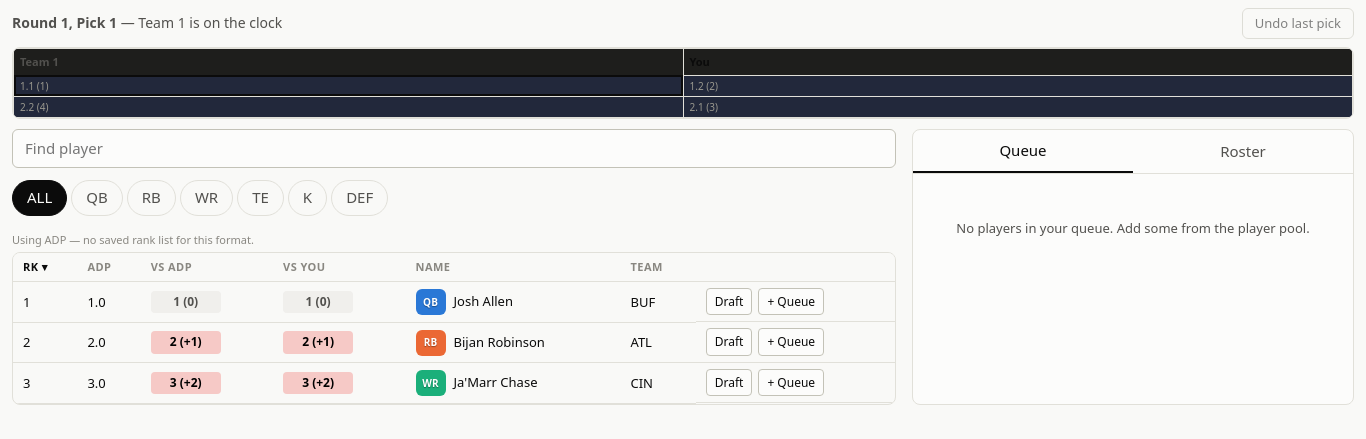
it: DraftRoom › undo removes the last pick
Expected: the text "Josh Allen" is shown, [454, 292, 513, 310]
Click the button "Draft" in the row of "1.0": click(729, 302) [706, 288, 752, 315]
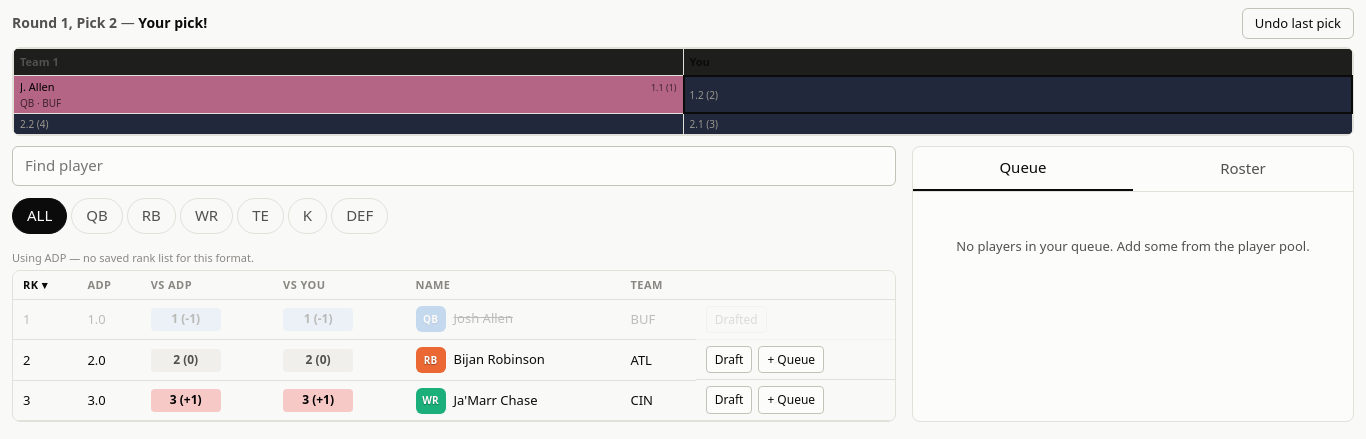
Expected: the text "Your pick!" is shown, [138, 13, 207, 32]
Click the button "Undo last pick": click(1298, 23) [1242, 8, 1354, 39]
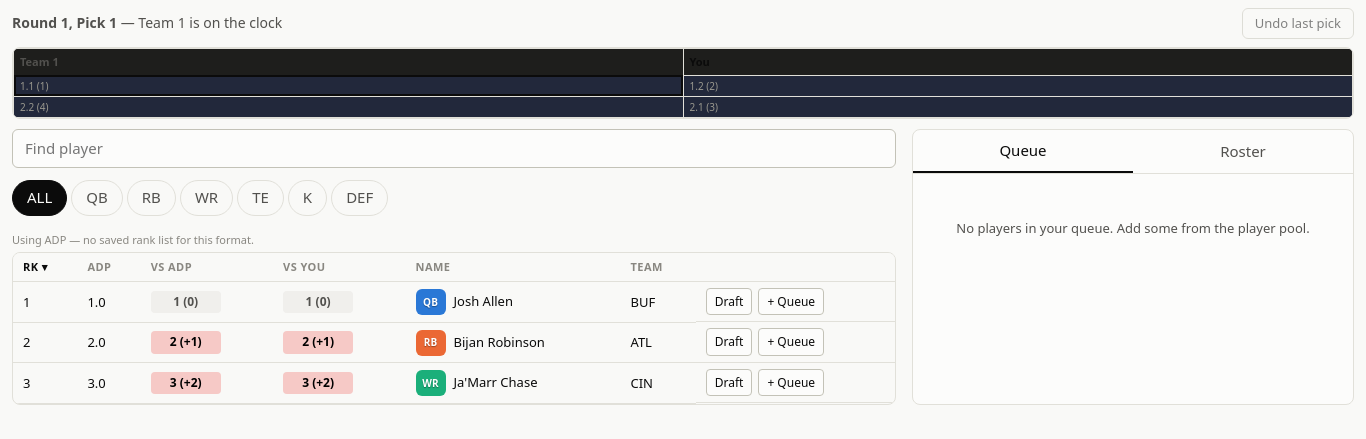
Expected: the text "Round 1, Pick 1 — Team 1 is on the clock" is shown, [12, 13, 282, 34]
Expected: the text "J. Allen" is gone
